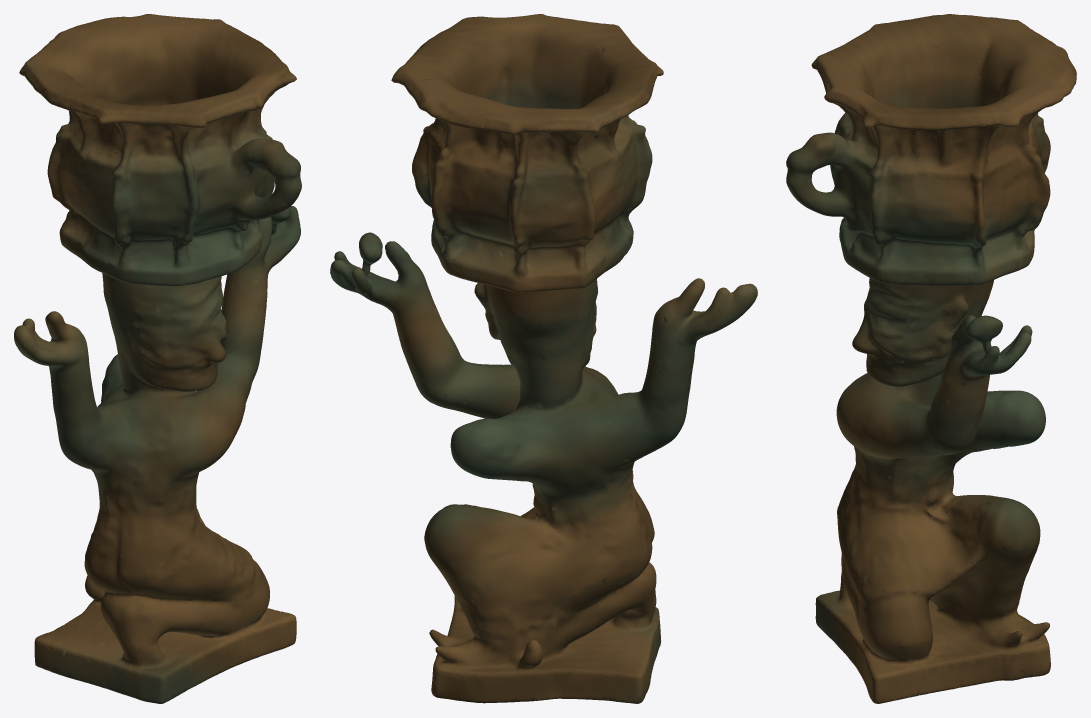
File: dingzun.glb
3 views of the same model, side by side, from view 1: azimuth 30°, elevation 25°; view 2: azimuth 150°, elevation 25°; view 3: azimuth 270°, elevation 25° (orthographic). The views are drawn at different scales.
Parts seen in each view (by area): view 1: model; view 2: model; view 3: model.
Boxes of the visible parts, <box> form: model: <box>14,14,301,703</box>; model: <box>330,14,757,703</box>; model: <box>786,14,1076,703</box>.
Size of the model in its own units: 0.6187 by 1 by 0.4485.
